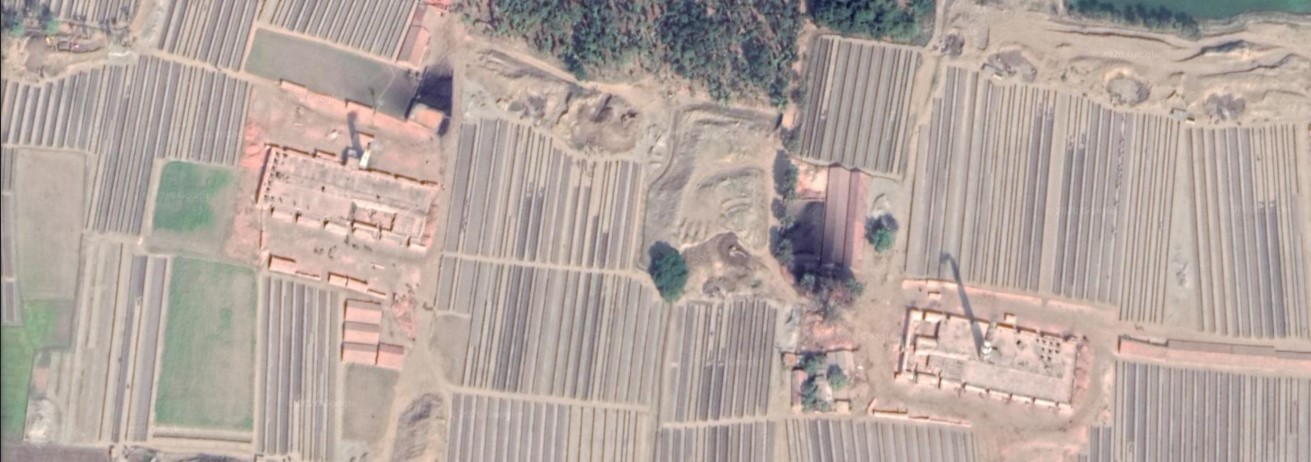kiln: (254, 113, 442, 253), (890, 294, 1104, 416)
